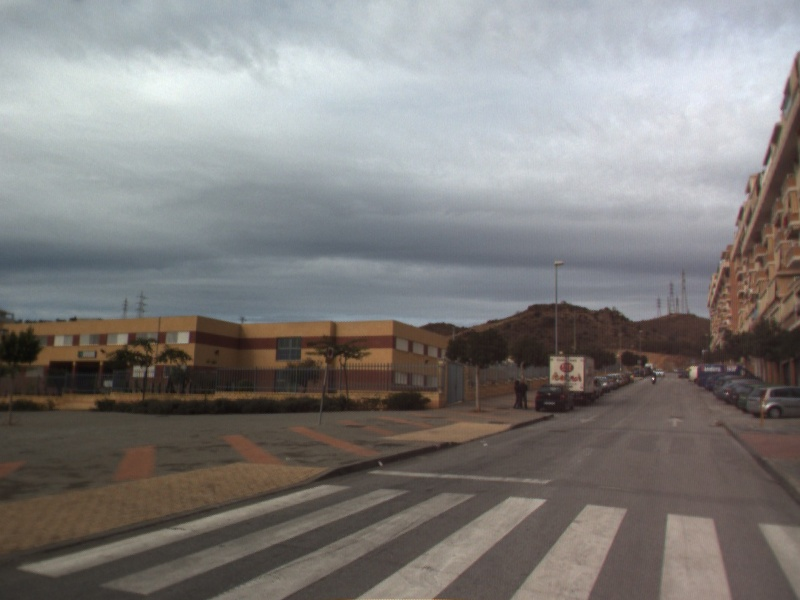STRAIGHT: (666, 415, 686, 429)
